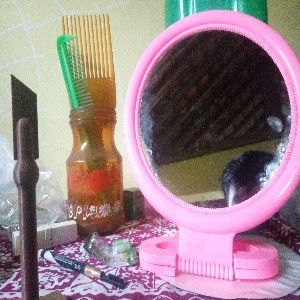cutter: (9, 72, 41, 300)
